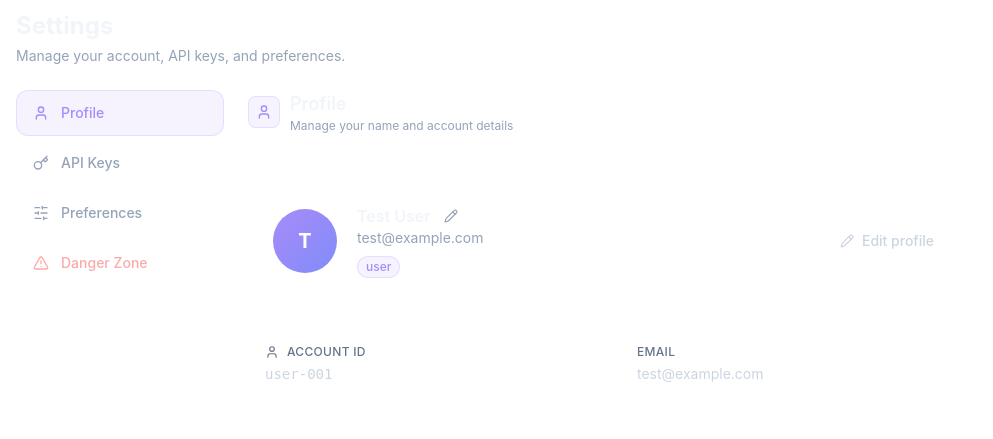
Test case: API Keys section › shows "Never" for lastUsedAt when null
Click the button "API Keys" at (120, 163), box [16,140,224,186]
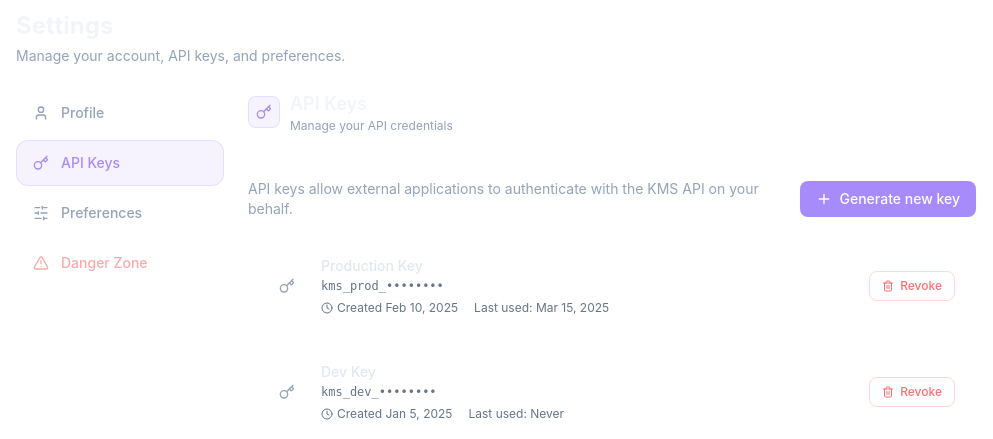
Expected: the text "Last used: Never" is shown, [468,406,564,422]
